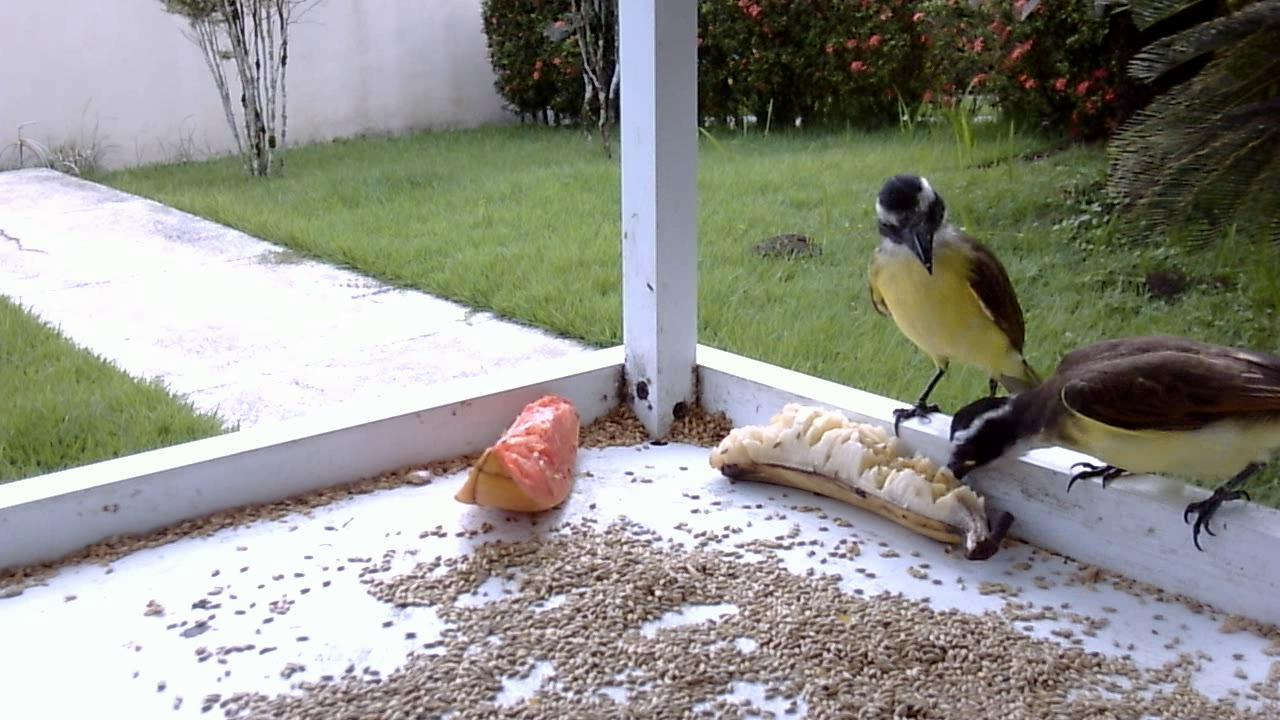bem_te_vi: (935, 310, 1277, 574), (858, 160, 1042, 454)
